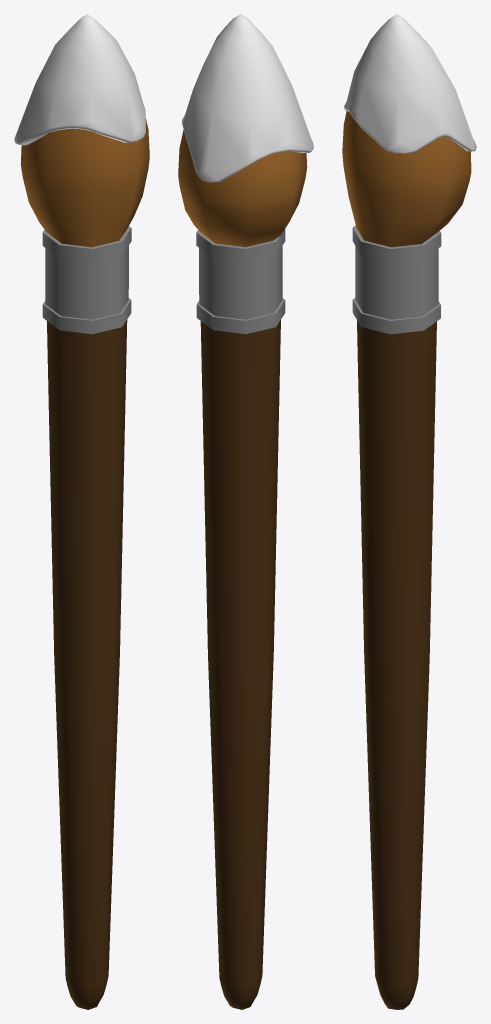
The model's file is Paint Brush.fbx.
The picture shows the model from 3 angles, left to right: view 1: azimuth 30°, elevation 25°; view 2: azimuth 210°, elevation 25°; view 3: azimuth 330°, elevation 25°; orthographic projection.
Parts seen in each view (by area): view 1: Paint Brush, Tip; view 2: Paint Brush, Tip; view 3: Paint Brush, Tip.
Boxes of the visible parts, x1,y1,x2,y2 form: Paint Brush: (20,118,149,1009); Tip: (14,14,146,145); Paint Brush: (178,130,307,1009); Tip: (181,14,313,182); Paint Brush: (342,111,471,1009); Tip: (344,14,476,153).
Bounding box in the file's own units: 293 × 2439 × 281.
